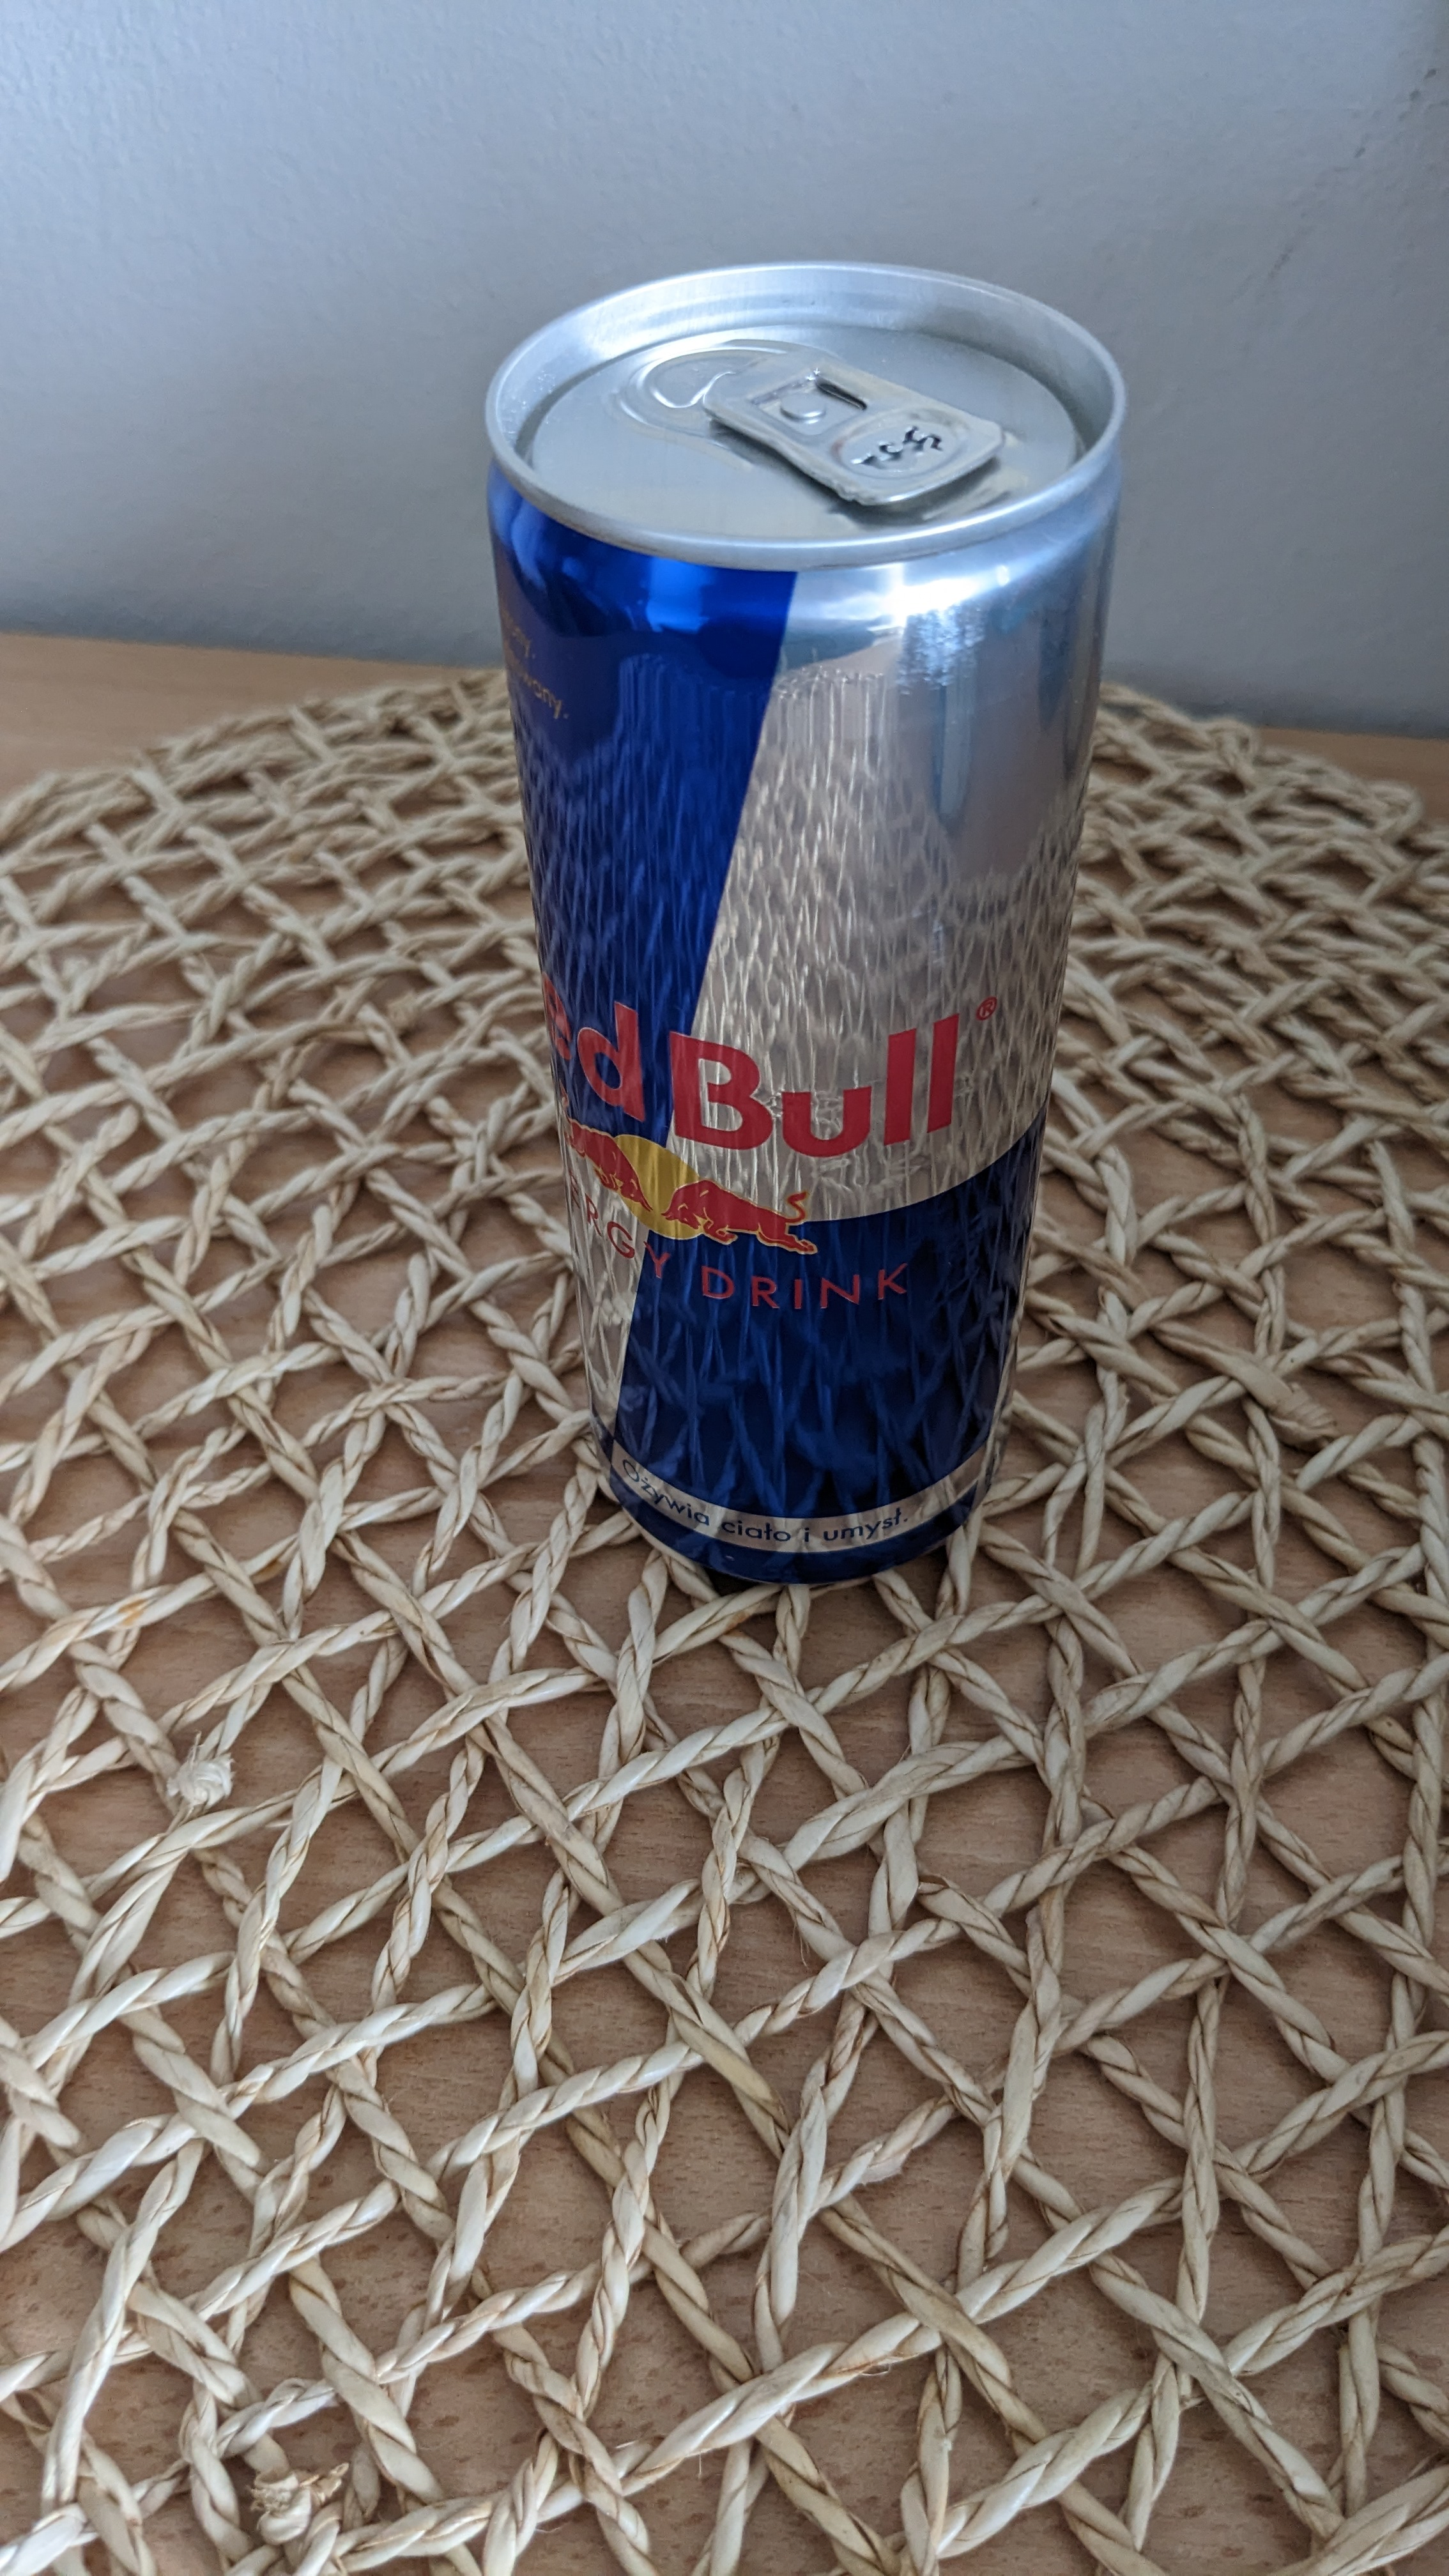red-bull: (474, 230, 1122, 1606)
